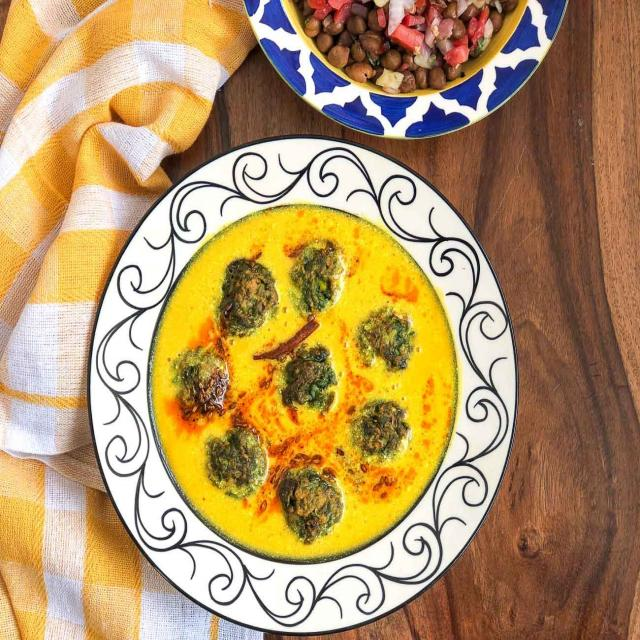Kadhi Pakora: (154, 205, 462, 559)
